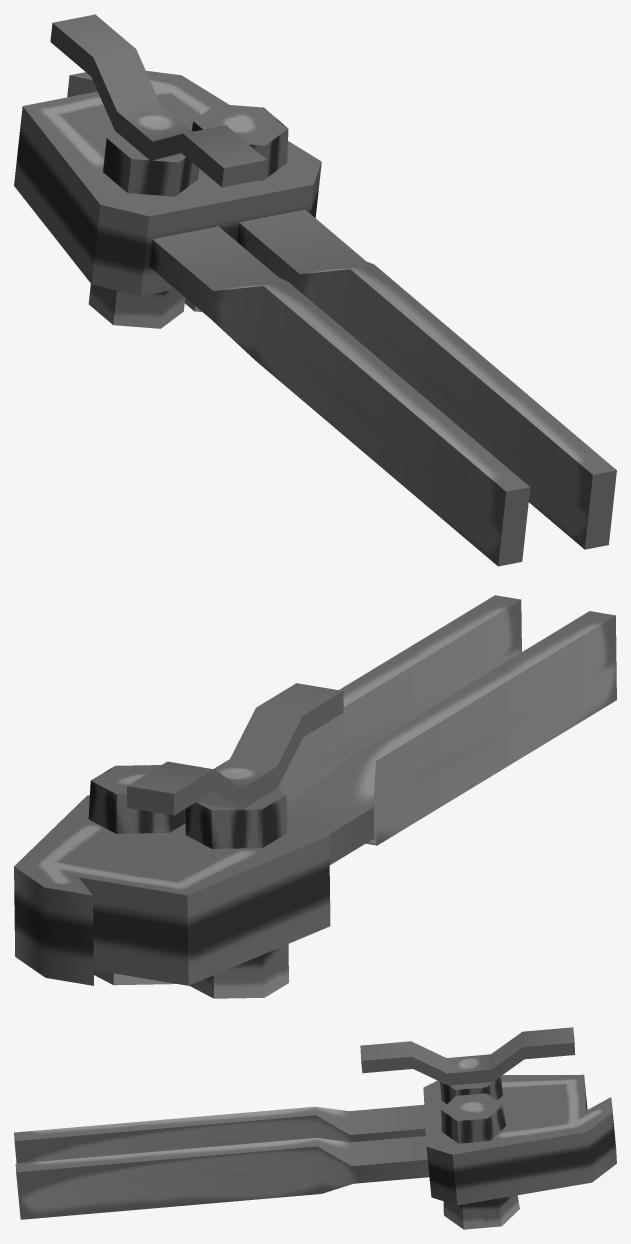
File: obj_CanOpener.fbx
The picture shows the model from 3 angles, top to bottom: view 1: azimuth 30°, elevation 25°; view 2: azimuth 150°, elevation 25°; view 3: azimuth 270°, elevation 25°; orthographic projection. The views are drawn at different scales.
Parts seen in each view (by area): view 1: obj_CanOpener; view 2: obj_CanOpener; view 3: obj_CanOpener.
Boxes of the visible parts, x1,y1,x2,y2 form: obj_CanOpener: [14, 14, 616, 566]; obj_CanOpener: [14, 595, 616, 998]; obj_CanOpener: [14, 1027, 616, 1229].
Bounding box in the file's own units: 0.0939 × 0.0982 × 0.3322.
